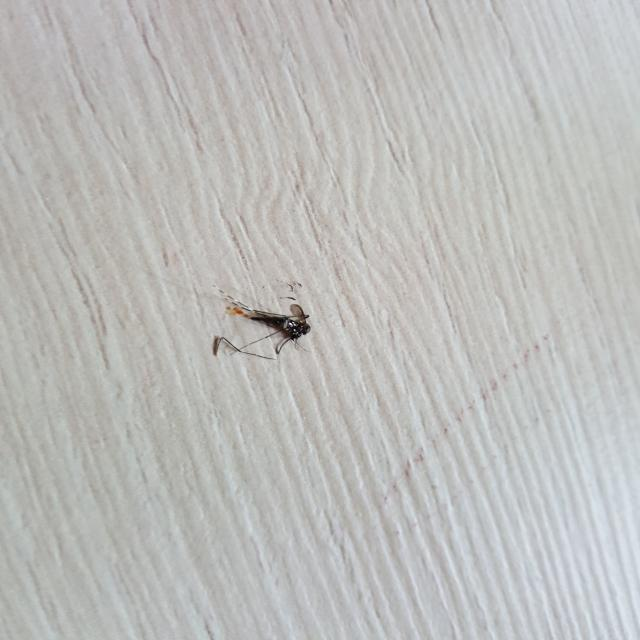albopictus: (200, 276, 323, 363)
